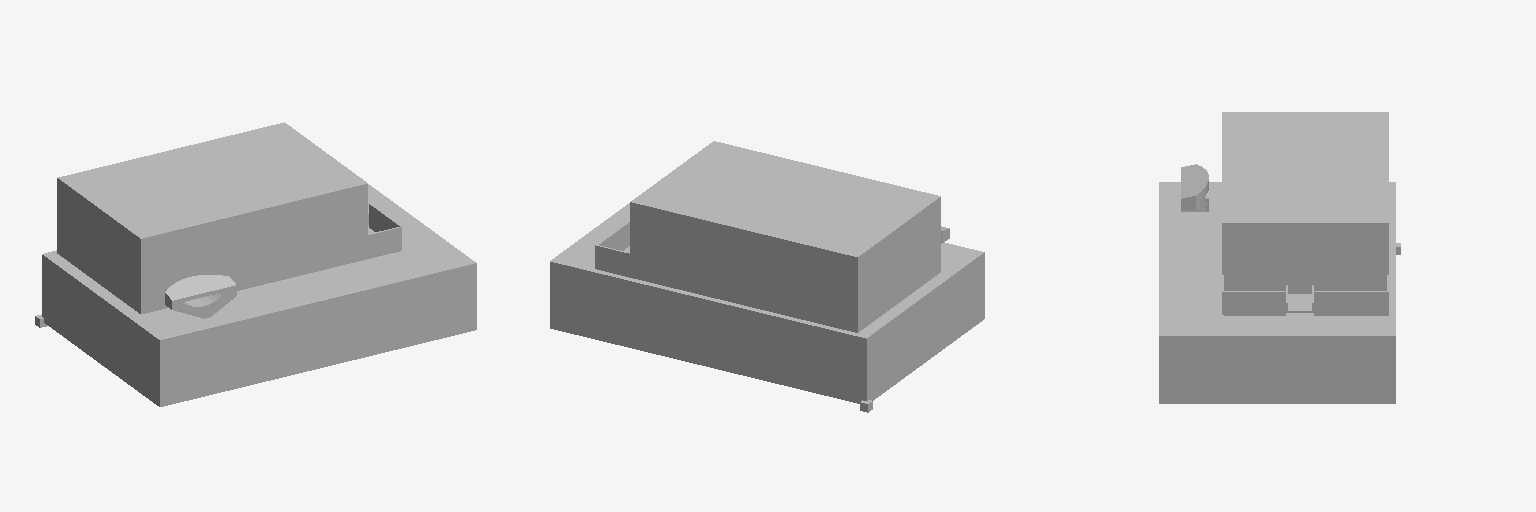
File: muma.obj
3 views of the same model, side by side, from view 1: azimuth 30°, elevation 25°; view 2: azimuth 150°, elevation 25°; view 3: azimuth 270°, elevation 25° (orthographic).
Visible parts, largest first — view 1: muma; view 2: muma; view 3: muma.
Boxes of the visible parts, box(x1,y1,x2,y2) form: muma: box(42, 122, 476, 406); muma: box(550, 141, 984, 403); muma: box(1159, 112, 1395, 403).
Bounding box in the file's own units: 77.65 × 34 × 50.49.